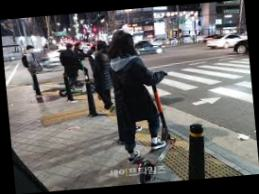nonhelmet: (107, 30, 181, 186), (54, 42, 89, 98)
